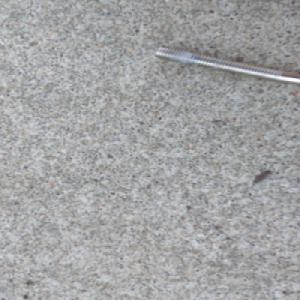ClampPart: (151, 44, 300, 86)
